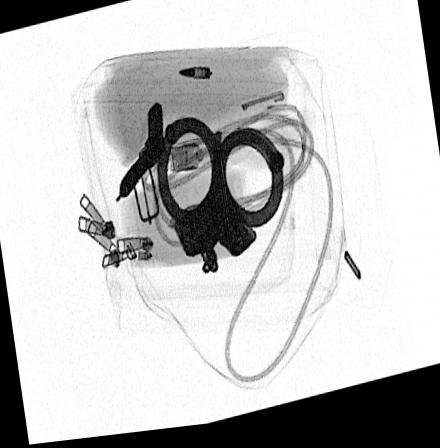Bullet: (177, 71, 210, 83)
Gun: (120, 106, 166, 203)
HandCuffs: (156, 117, 286, 279)
